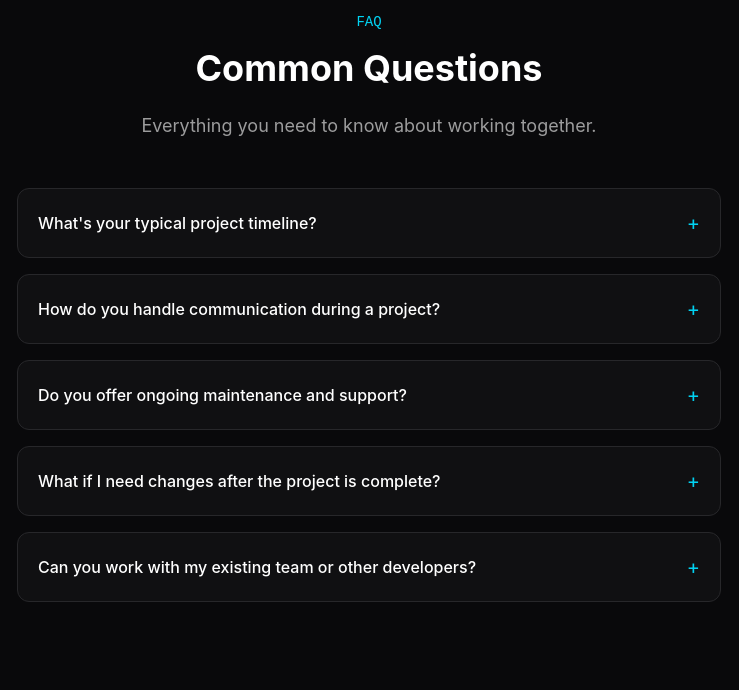
Test: Faq › expands the answer when a question is clicked
The width and height of the screenshot is (739, 690).
Click the button "What's your typical project timeline? +" at (177, 223), box [18, 189, 720, 257]
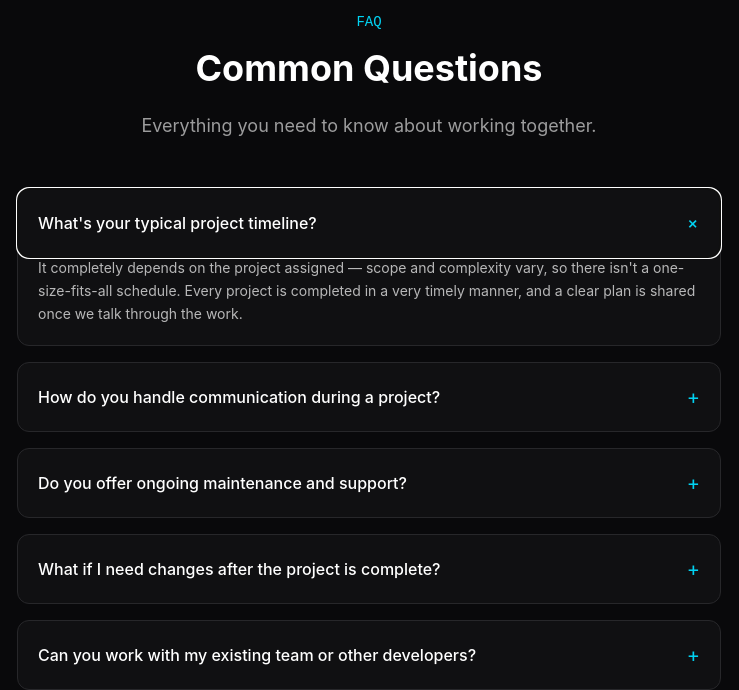
Expected: the text "It completely depends on the project assigned — scope and complexity vary, so there isn't a one-size-fits-all schedule. " is shown, [38, 259, 695, 322]
